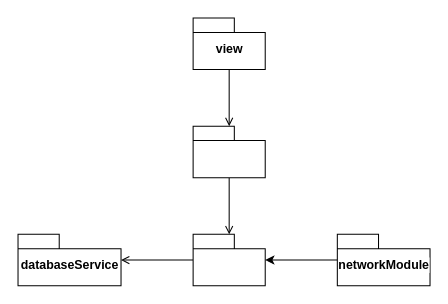
Image size: 448x304. Some labels were removed from this diagram. Each missing label, with the box of its shape:
model: (192, 233, 265, 286)
viewModel: (192, 125, 265, 178)
